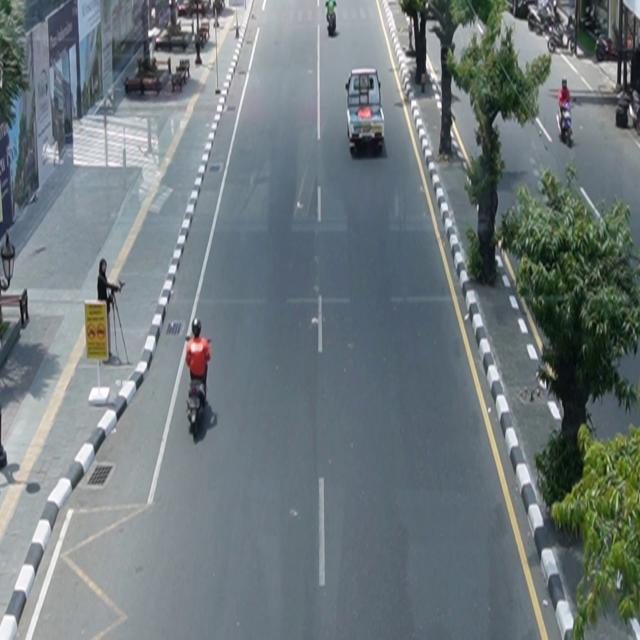car: (346, 68, 386, 154)
